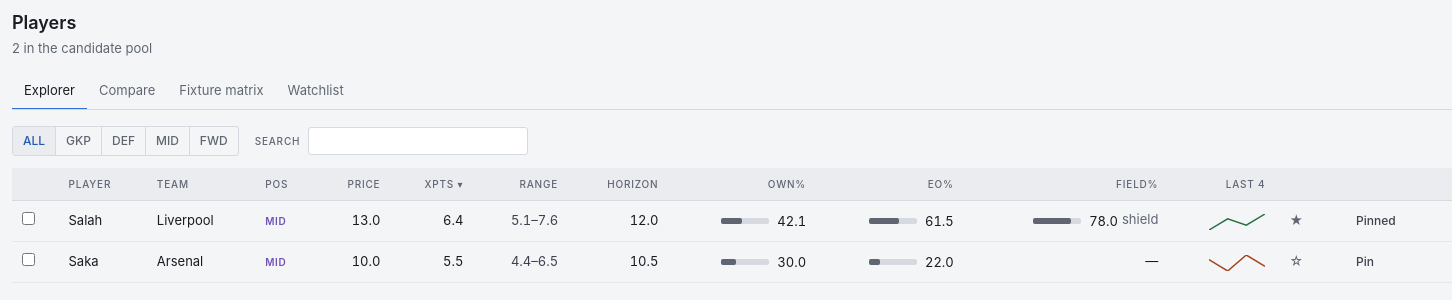
Players hub › says the server broke rather than that there is nothing to compare
This screenshot has width=1452, height=300.
Check: the button "Salah" is shown, box [68,211,102,230]
Click the tab "Compare": (127,92) [87,73,167,110]
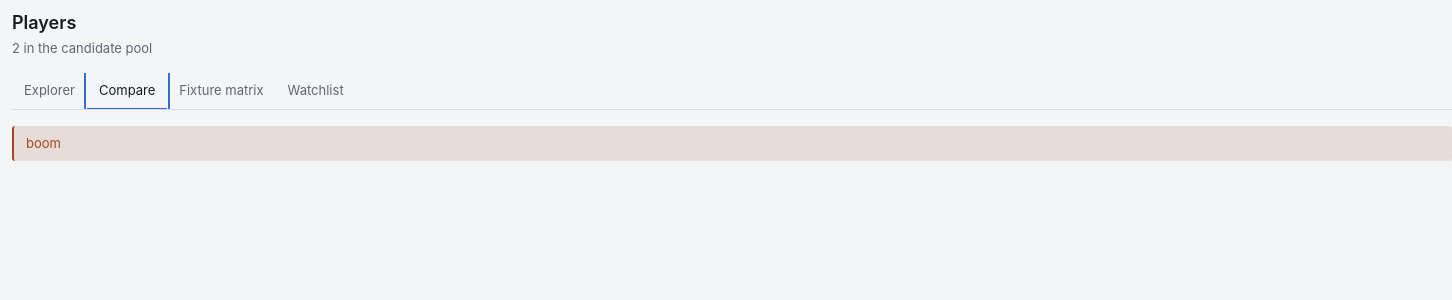
Check: the text "boom" is shown, box [12,126,1451,161]
